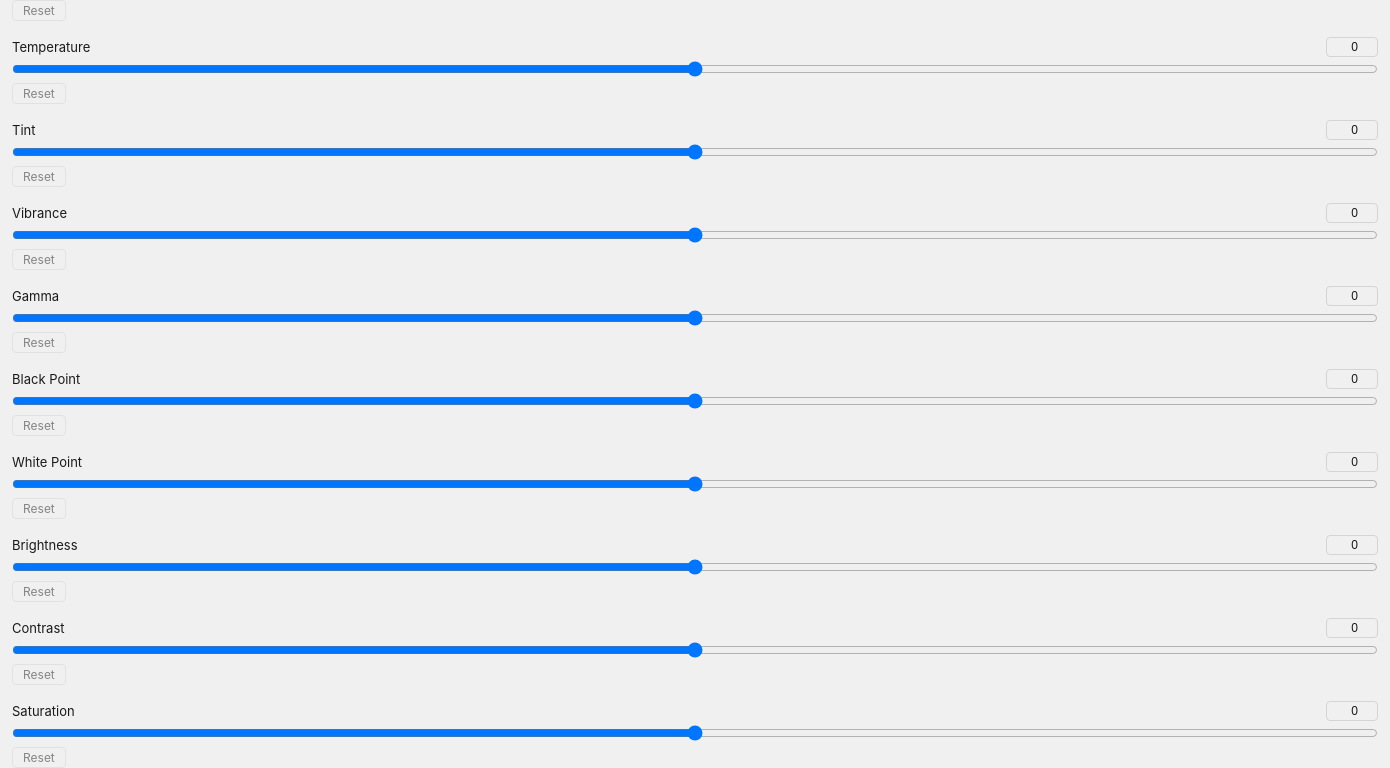
AdjustPanel › dragging the slider previews live without touching document history
(page scrolled)
Set the slider labelled "Contrast" to "25" at (864, 650), box [12,642,1378,658]
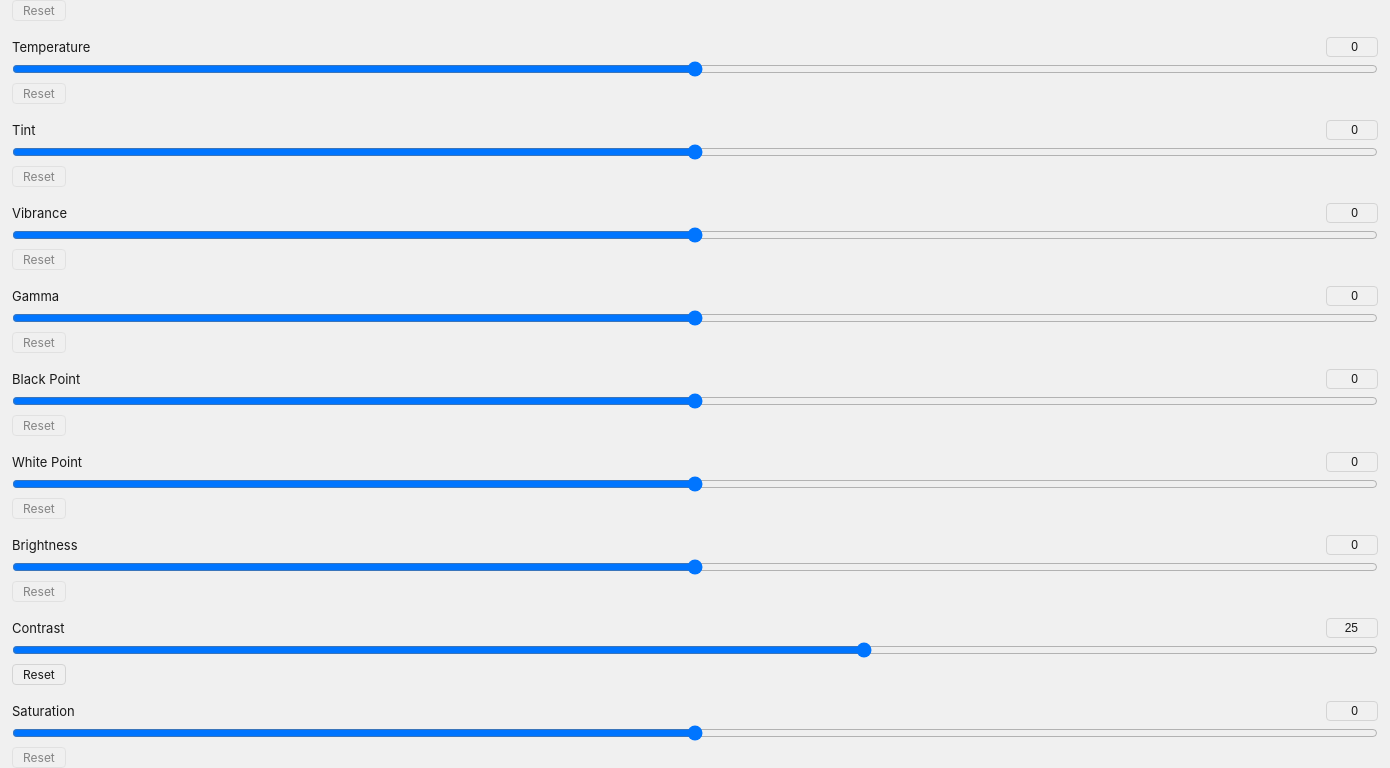
Check: the button with aria-label "Reset Contrast" is enabled, box [12,664,66,685]
